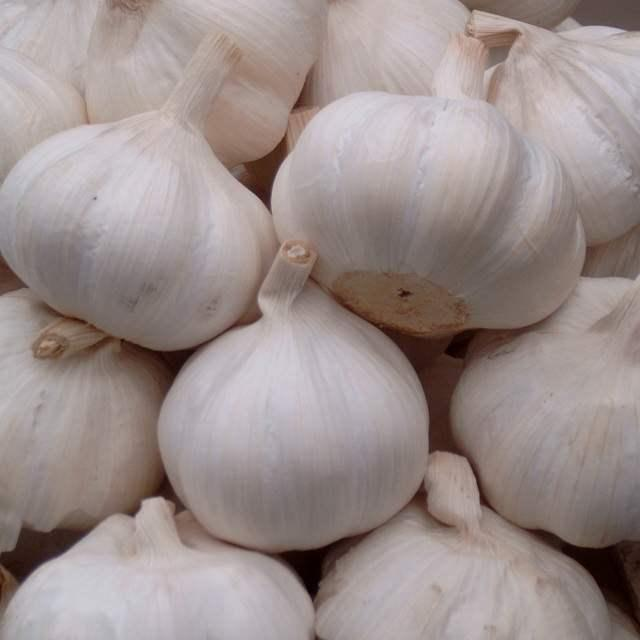garlic: (277, 75, 578, 314), (158, 320, 429, 541), (0, 101, 251, 323), (458, 294, 640, 539), (0, 529, 307, 640), (330, 519, 606, 640), (0, 321, 155, 518), (88, 0, 328, 122), (515, 14, 640, 171)
